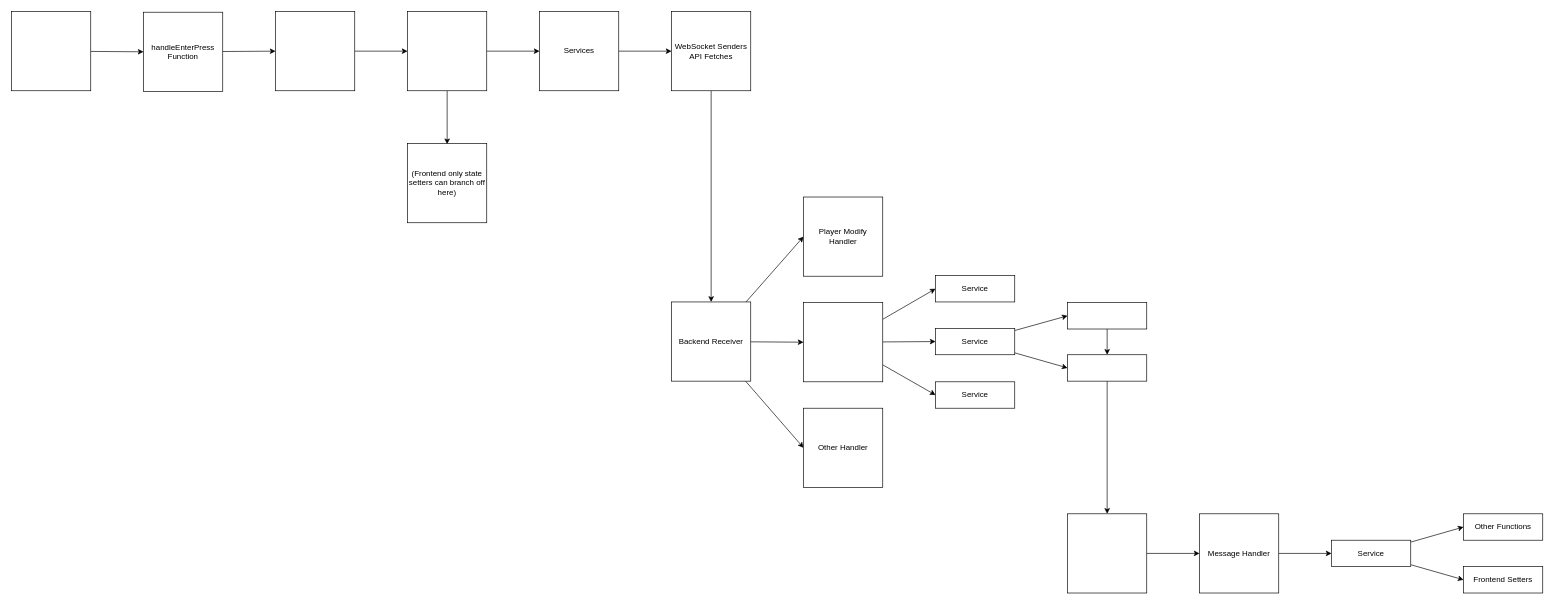
This 1554x605 diagram has some shape labels left out. The centre of each missing label's shape, as x and y in pixels:
actionList Function: (x=315, y=51)
Command Line Component: (x=51, y=51)
commandActions Object: (x=447, y=51)
Database Retrievers: (x=1107, y=315)
Frontend Receiver: (x=1107, y=553)
Frontend Senders: (x=1107, y=367)
Player Action Handler: (x=843, y=342)
